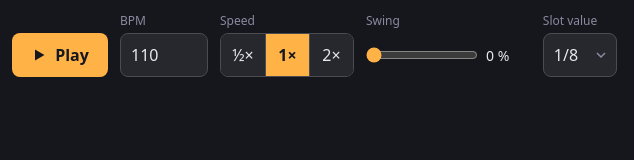
it: swing slider › sets swing live while dragging and shows the value
Set the slider labelled "Swing" to "33" at (416, 55), box [366,33,478,77]
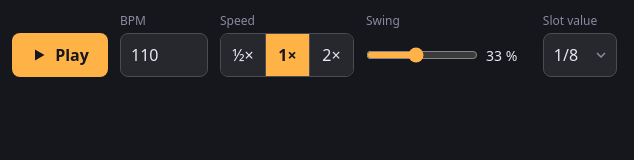
Expected: the text "33 %" is shown, [486,46,517,64]
